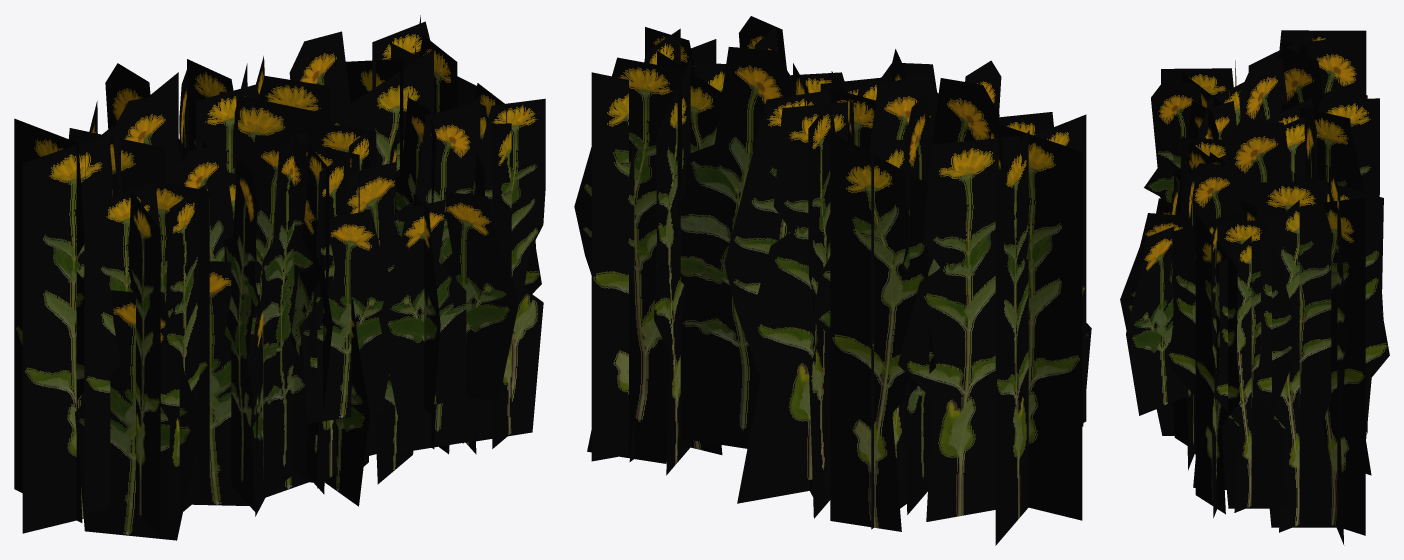
The model's file is flowers_wild_sunflowers.fbx.
3 views of the same model, side by side, from view 1: azimuth 30°, elevation 25°; view 2: azimuth 150°, elevation 25°; view 3: azimuth 270°, elevation 25° (orthographic). The views are drawn at different scales.
Parts seen in each view (by area): view 1: Plane_038; view 2: Plane_038; view 3: Plane_038.
Part boxes in pixels (left/top/right/bottom): Plane_038: left=14, top=15, right=545, bottom=540; Plane_038: left=574, top=16, right=1091, bottom=545; Plane_038: left=1120, top=30, right=1389, bottom=545.
Bounding box in the file's own units: 232 × 129 × 195.
